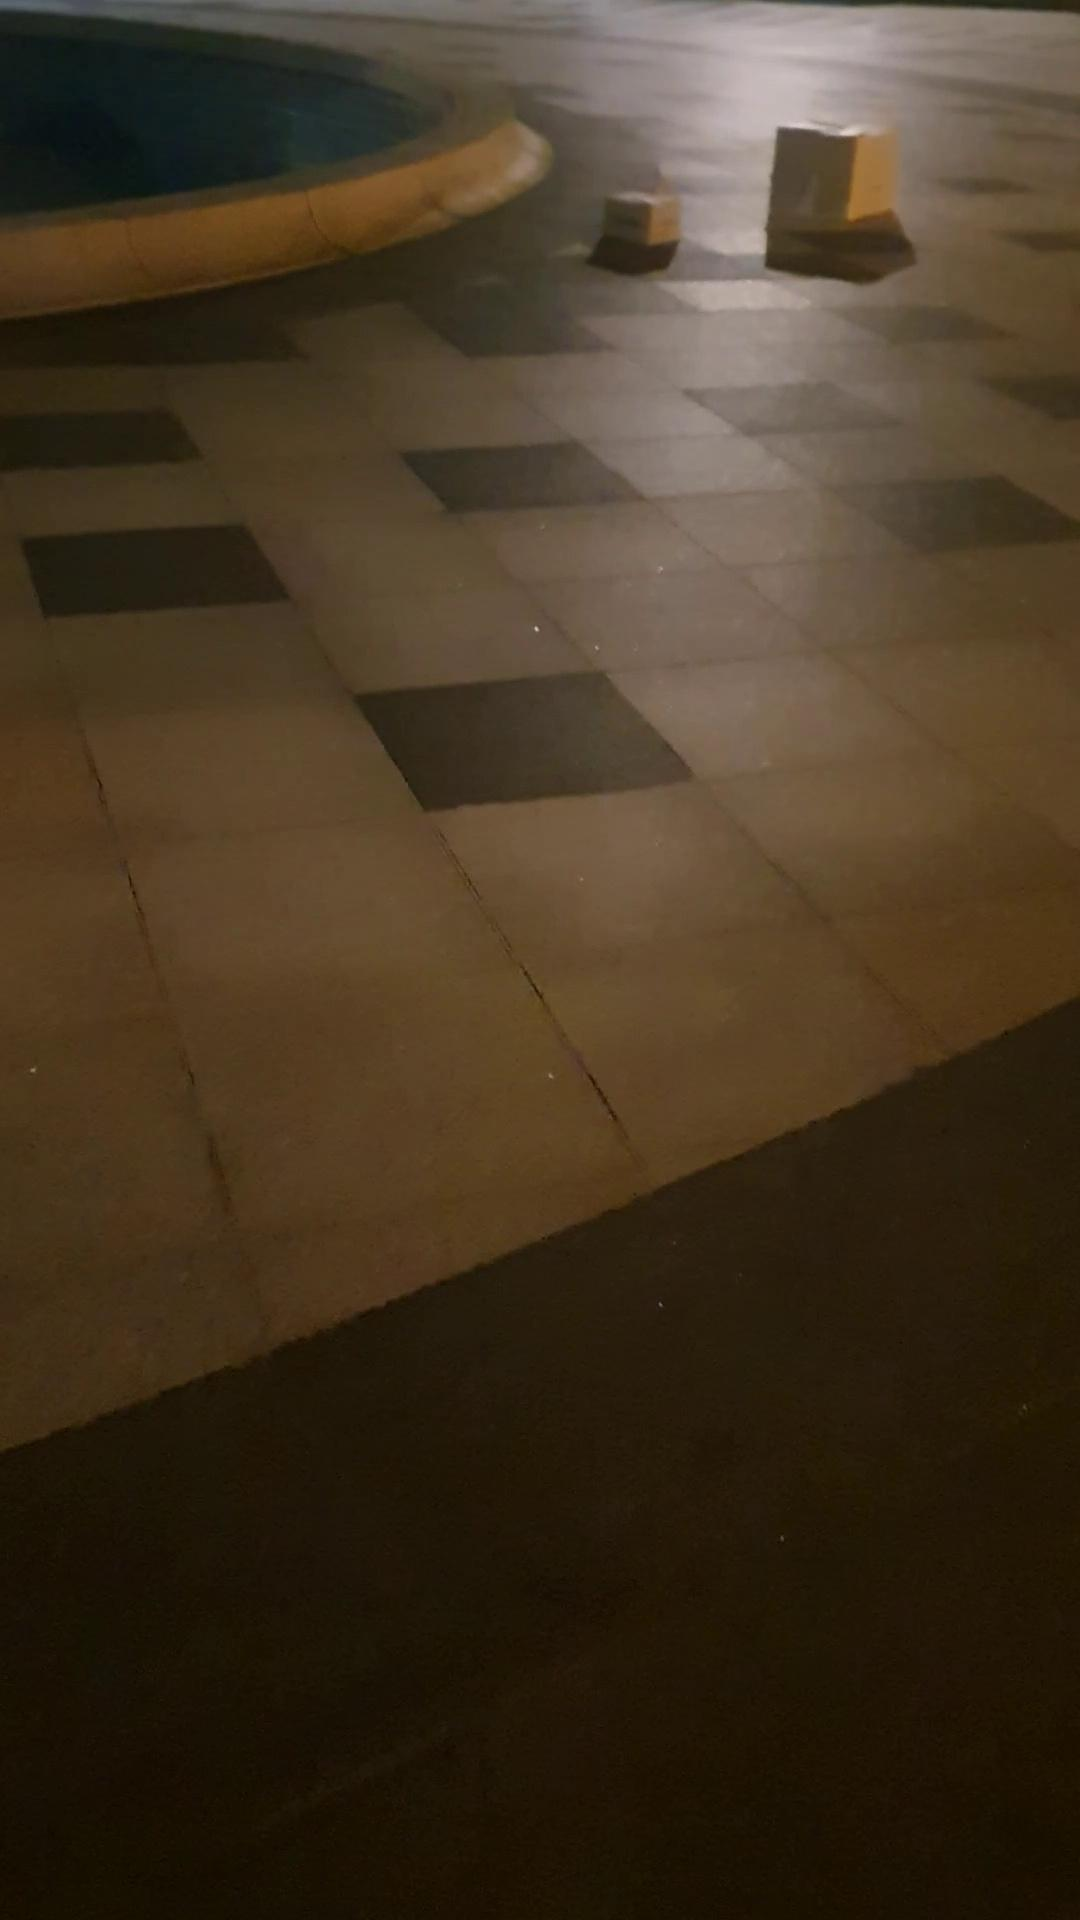Box: (756, 105, 902, 247), (591, 173, 676, 253)
